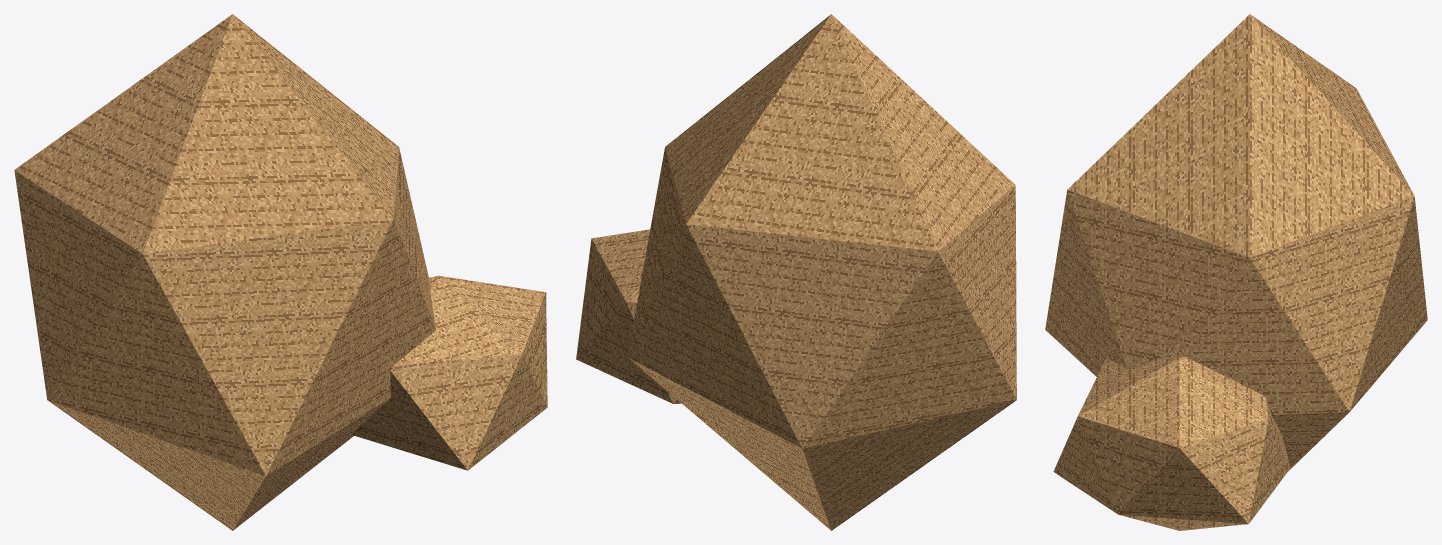
File: rock_sand.glb
3 views of the same model, side by side, from view 1: azimuth 30°, elevation 25°; view 2: azimuth 150°, elevation 25°; view 3: azimuth 270°, elevation 25° (orthographic). The views are drawn at different scales.
Parts seen in each view (by area): view 1: Body.017; view 2: Body.017; view 3: Body.017.
Part boxes in pixels (x1,y1,x2,y2): Body.017: [14, 14, 547, 530]; Body.017: [576, 14, 1016, 530]; Body.017: [1045, 14, 1427, 530].
Bounding box in the file's own units: 2.18 × 2.33 × 1.63.
1 material, 1 textured.
